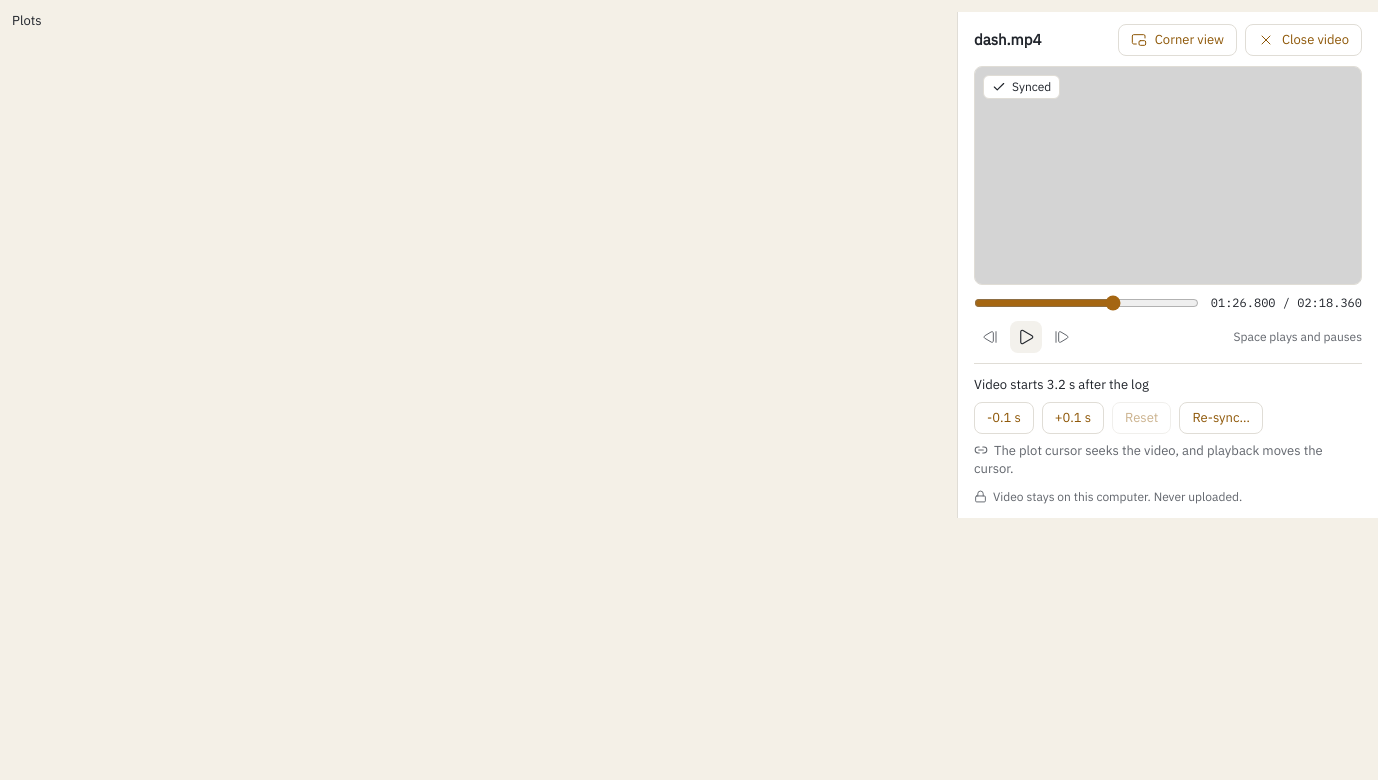
Test case: Video sync › keeps playing past the end of the log, but leaves the cursor at the log
expect the element "video" is shown: met, box left=958, top=12, right=1377, bottom=518
Click the button named "Play".
click(1026, 337)  # box left=1010, top=321, right=1042, bottom=353
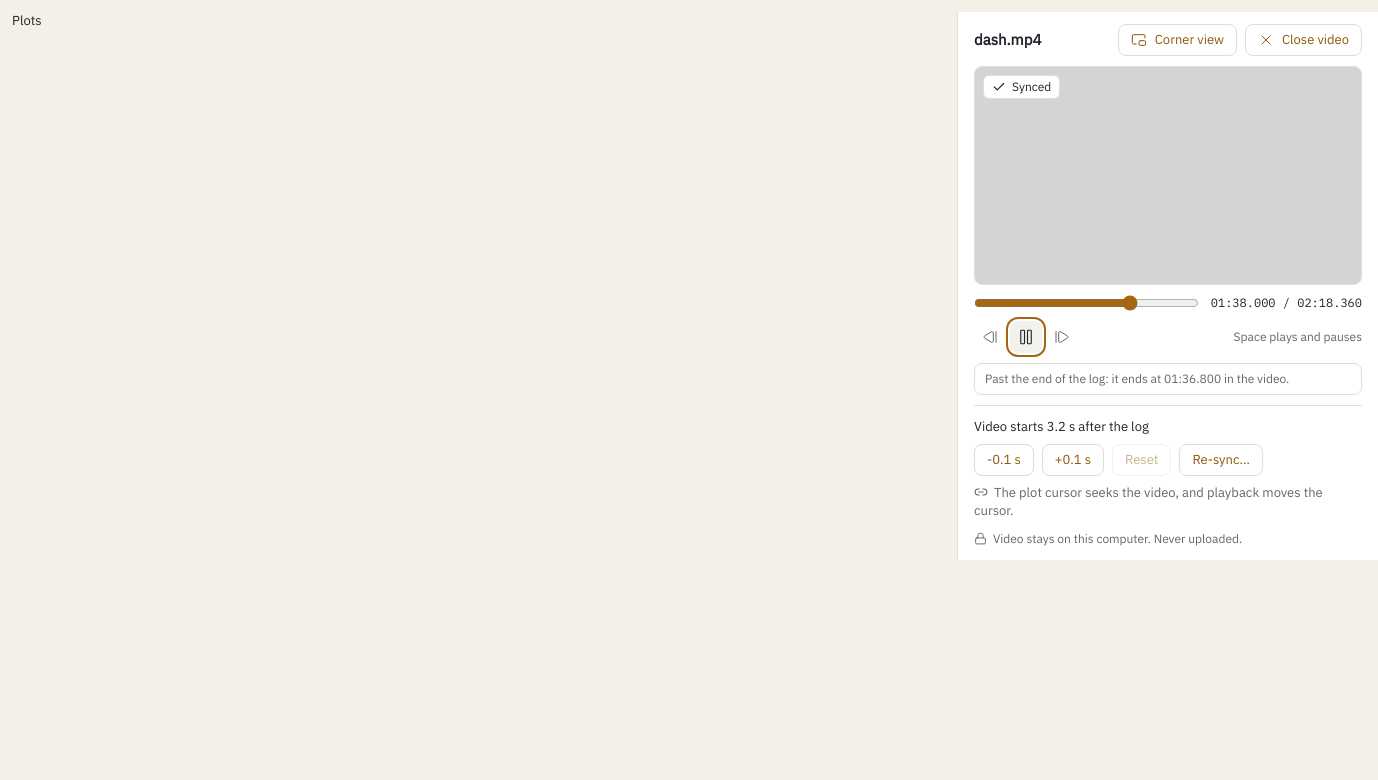
expect the text "Past the end of the log: it ends at 01:36.800 in the video." is shown: met, box left=974, top=363, right=1362, bottom=395
